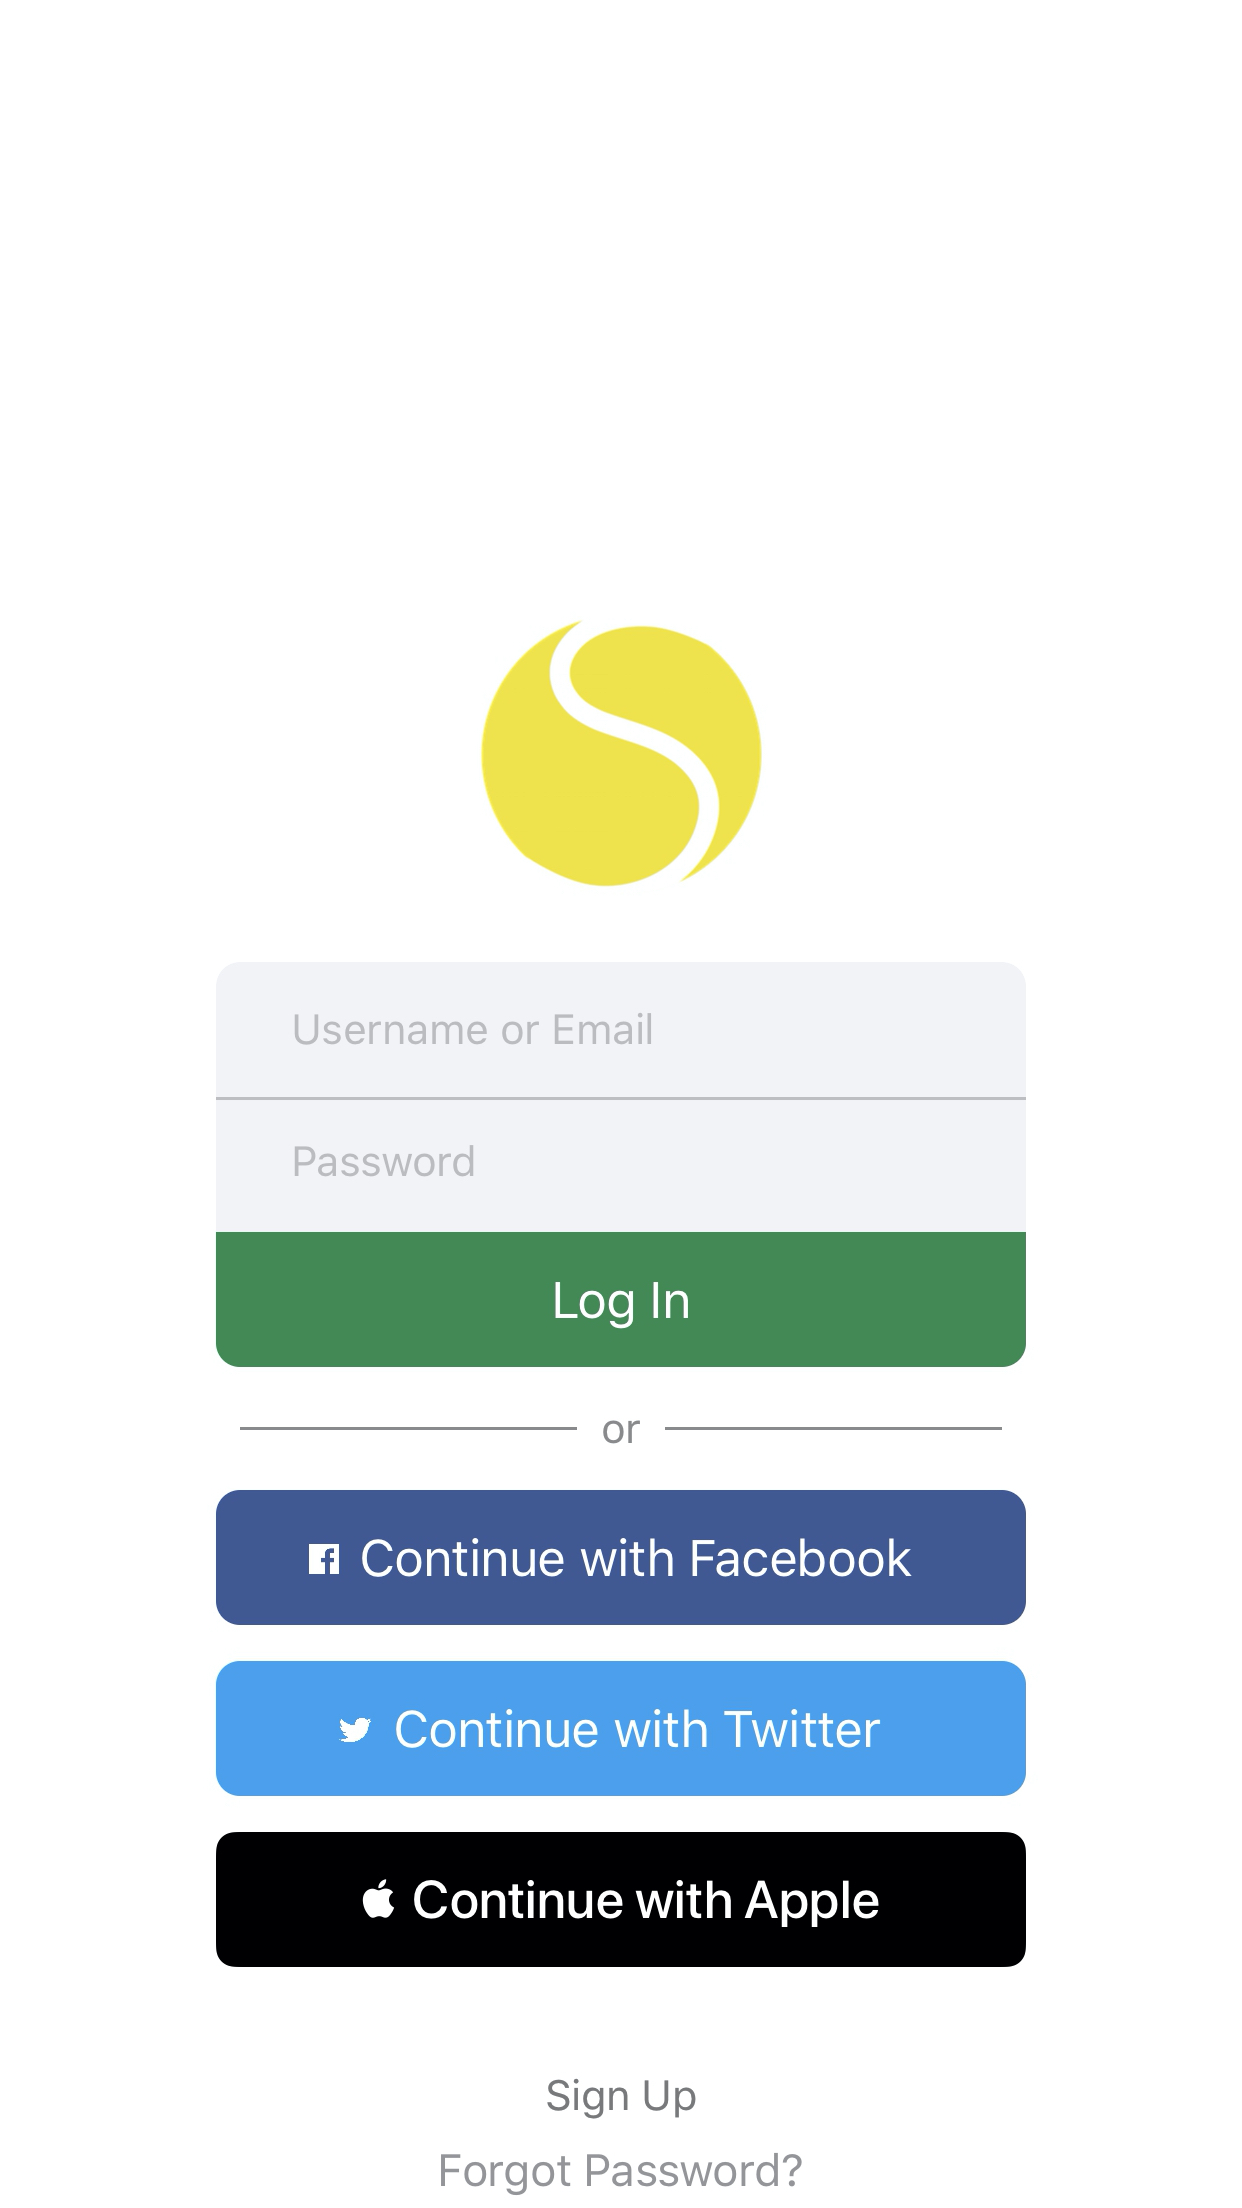EditText: (215, 961, 1027, 1099), (215, 1099, 1027, 1231)
Image: (484, 623, 761, 887)
Text: (441, 2150, 802, 2194), (294, 1011, 651, 1045), (547, 2078, 696, 2119), (294, 1143, 475, 1177), (604, 1421, 640, 1444)
TextButton: (215, 1231, 1027, 1366), (215, 1491, 1027, 1626), (215, 1661, 1027, 1796), (215, 1832, 1027, 1967)
